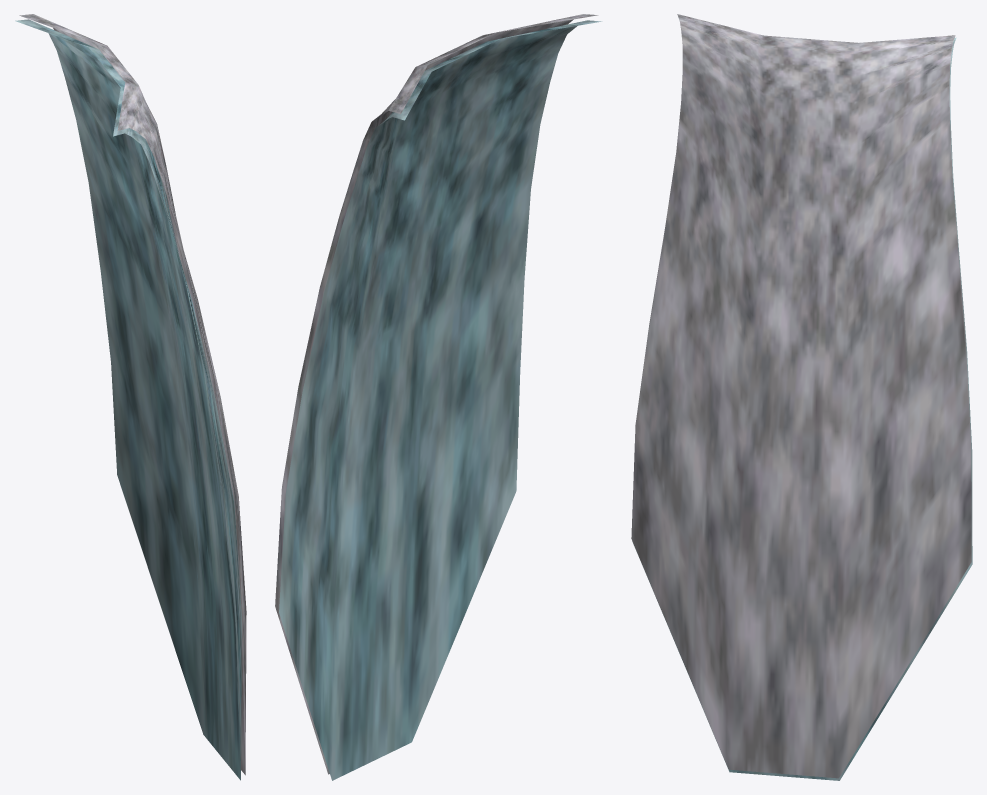
File: TROLLHOLE02_WATERFALLIN02.fbx
3 renders of one model, left to right at view 1: azimuth 30°, elevation 25°; view 2: azimuth 150°, elevation 25°; view 3: azimuth 270°, elevation 25°, orthographic. The views are drawn at different scales.
Parts seen in each view (by area): view 1: TROLLHOLE02_WATERFALLIN02; view 2: TROLLHOLE02_WATERFALLIN02; view 3: TROLLHOLE02_WATERFALLIN02.
Boxes of the visible parts, x1,y1,x2,y2 form: TROLLHOLE02_WATERFALLIN02: (15,14,246,780); TROLLHOLE02_WATERFALLIN02: (275,14,602,780); TROLLHOLE02_WATERFALLIN02: (631,14,972,780).
Bounding box in the file's own units: 31704 × 121126 × 54214.
Materials: 2 (2 with a texture image).
